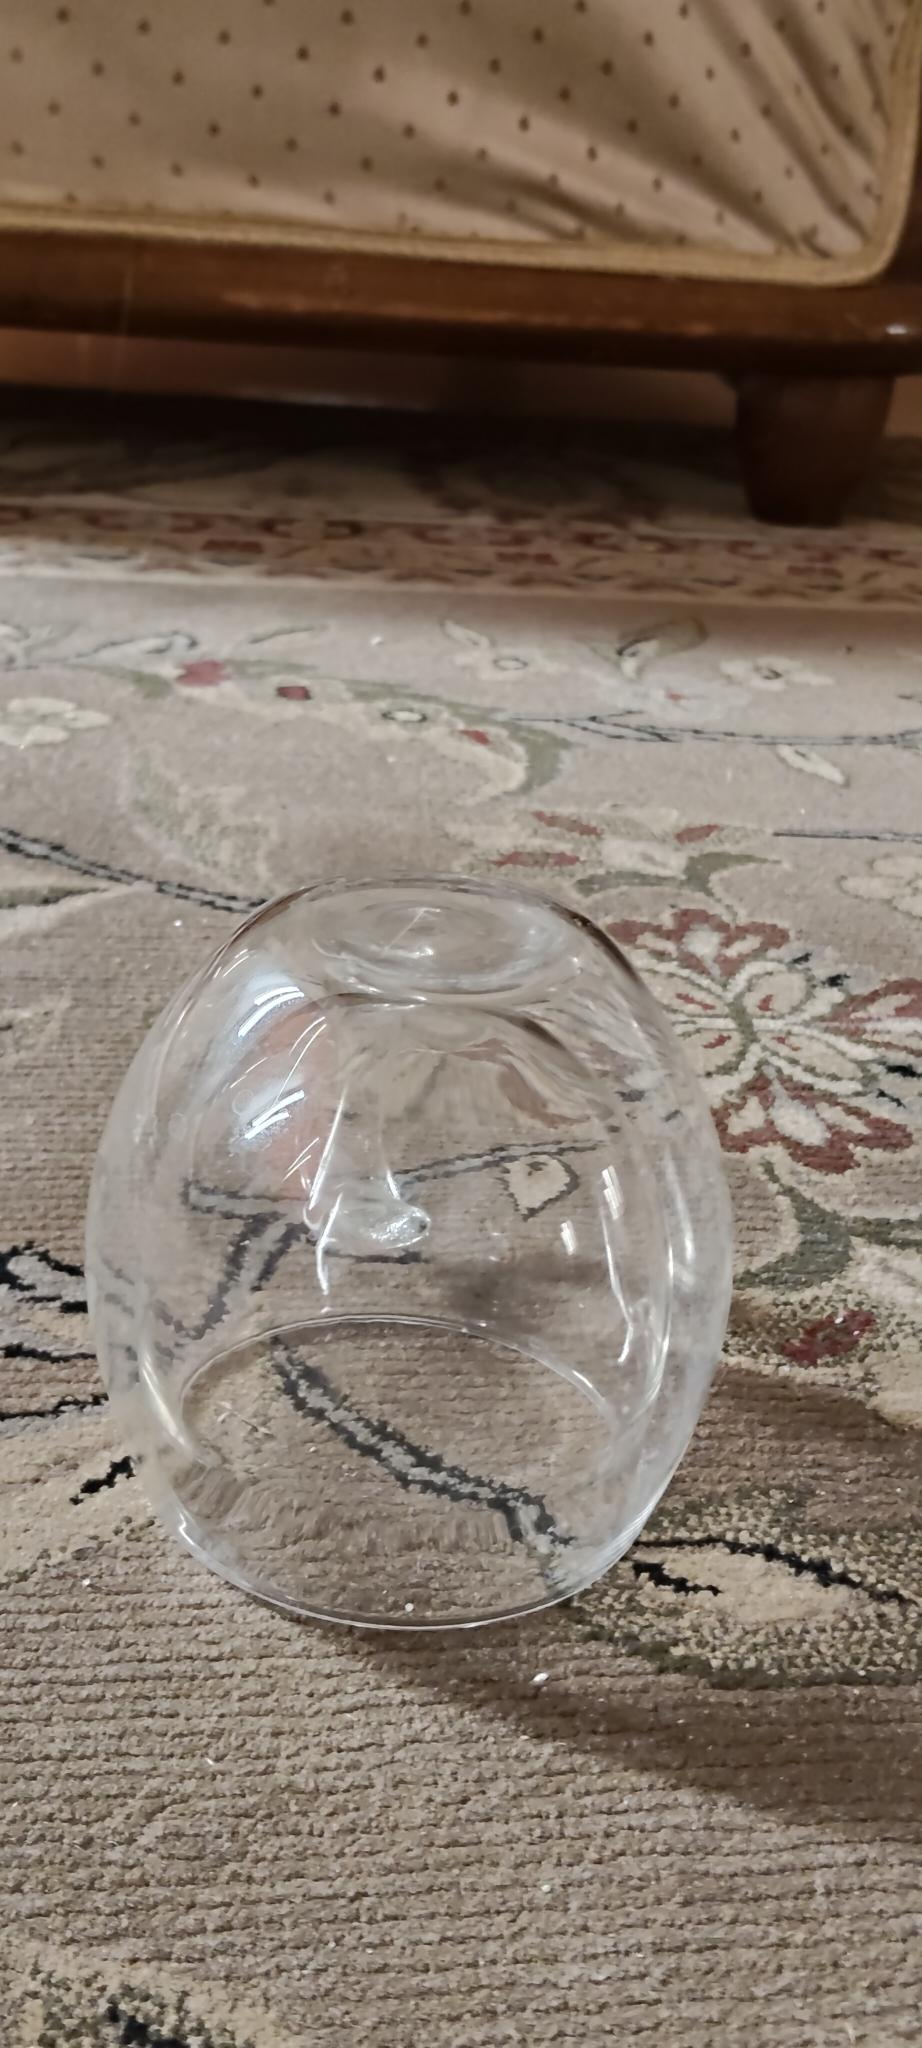Mug: (73, 886, 740, 1632)
